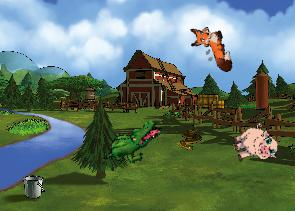crocodile: (101, 108, 164, 177)
fox: (186, 19, 235, 79)
pig: (229, 120, 280, 169)
